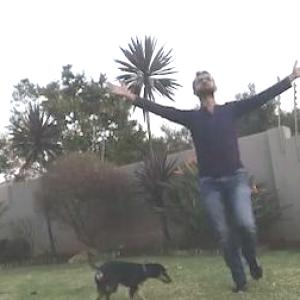takeoff: (120, 65, 299, 287)
